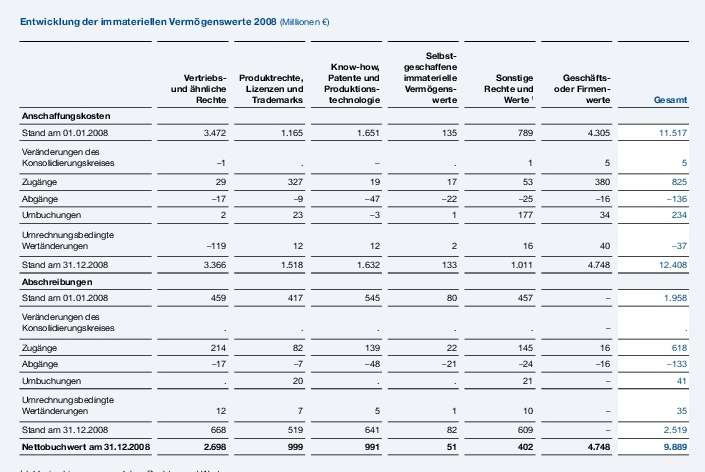table: (0, 0, 705, 472)
